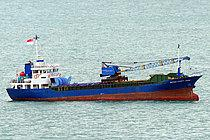Ship: (6, 33, 203, 104)
